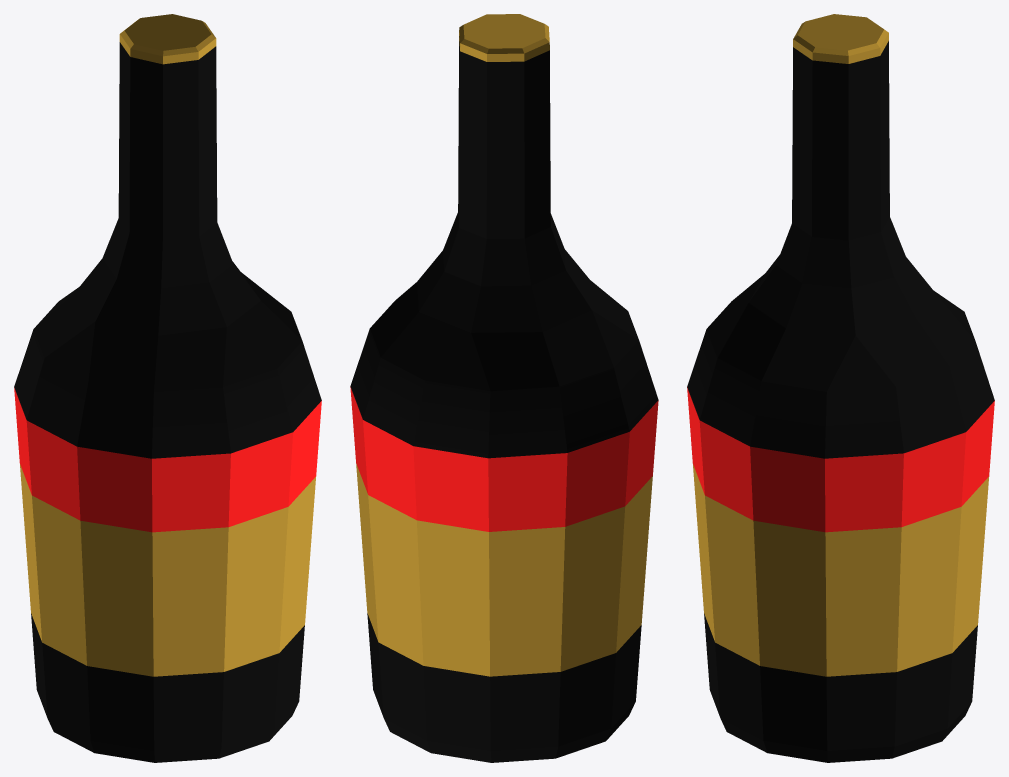
File: Wine 14.fbx
The picture shows the model from 3 angles, left to right: view 1: azimuth 30°, elevation 25°; view 2: azimuth 150°, elevation 25°; view 3: azimuth 270°, elevation 25°; orthographic projection.
Visible parts, largest first — view 1: Node 0; view 2: Node 0; view 3: Node 0.
Boxes of the visible parts, left/top/right/bottom form: Node 0: left=14, top=14, right=321, bottom=762; Node 0: left=350, top=14, right=658, bottom=762; Node 0: left=687, top=14, right=994, bottom=762.
Size of the model in its own units: 0.0931 by 0.2263 by 0.0931.
